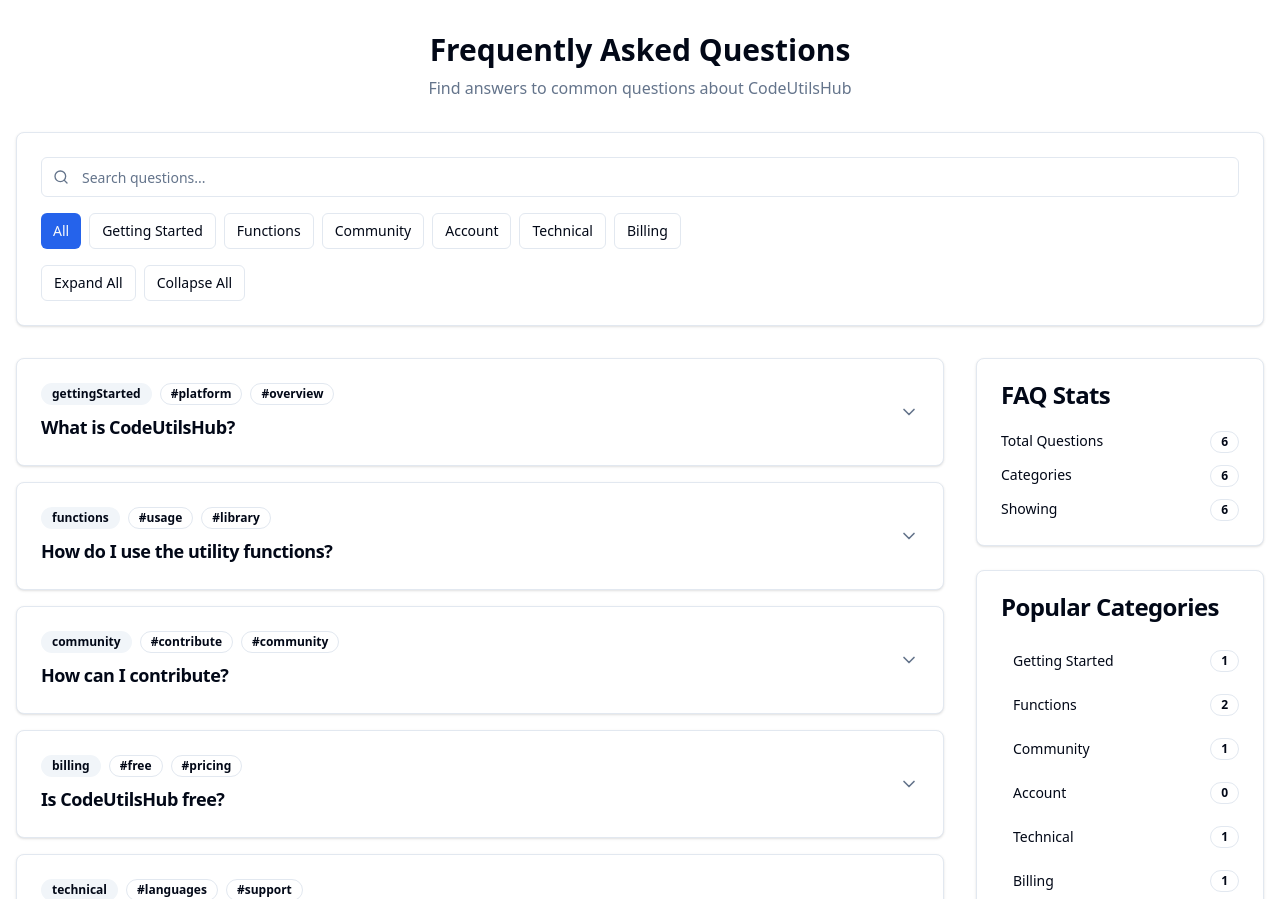
Test: FAQPage › collapses all FAQs when Collapse All is clicked
# First expand all
Click the button "Expand All". click: (88, 283)
box: [41, 265, 136, 301]
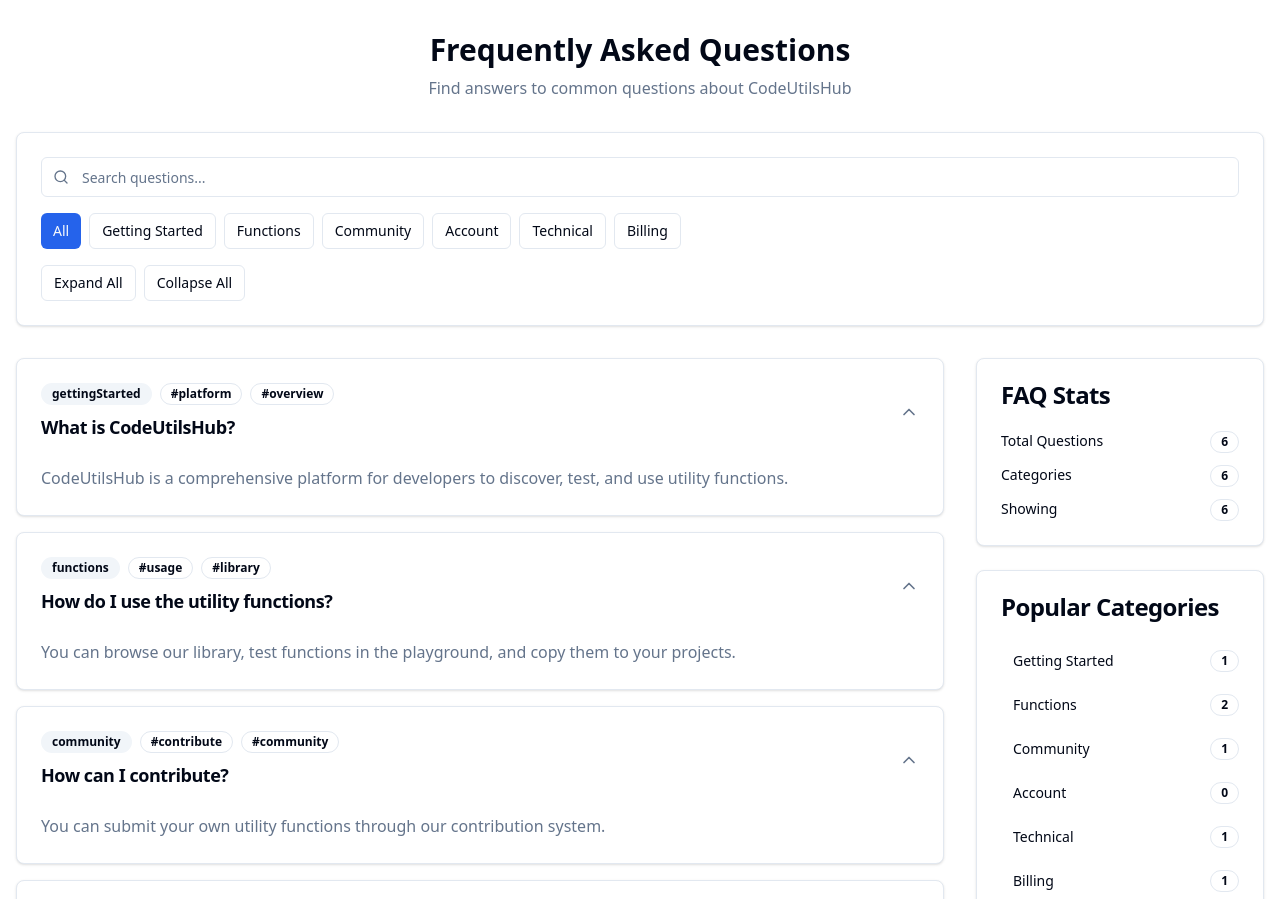
Check: the text "CodeUtilsHub is a comprehensive platform for developers to discover, test, and use utility functions." is shown, box [41, 467, 788, 489]
# Then collapse all
Click the button "Collapse All". click: (194, 283)
box: [144, 265, 245, 301]
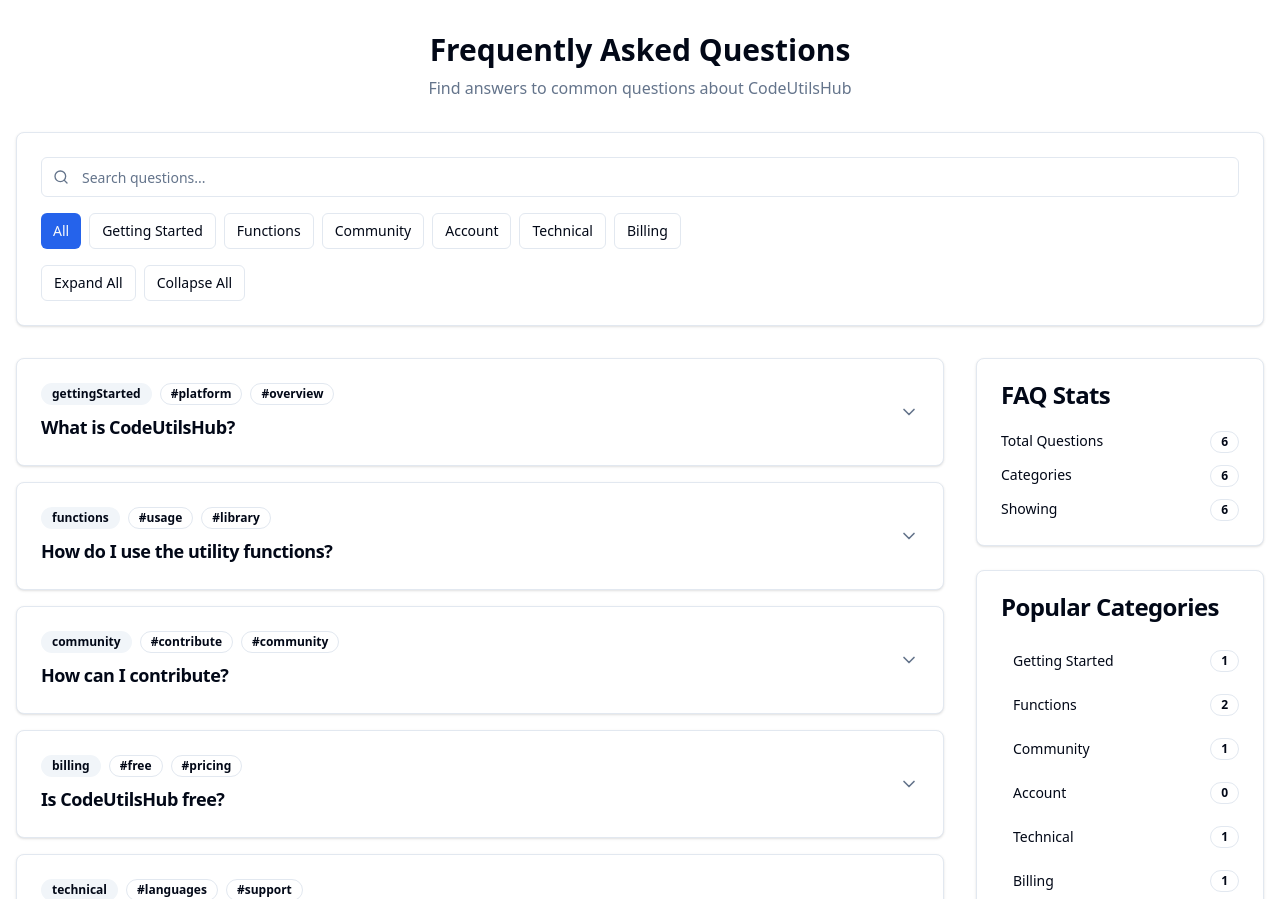
Check: the text "CodeUtilsHub is a comprehensive platform for developers to discover, test, and use utility functions." is gone
